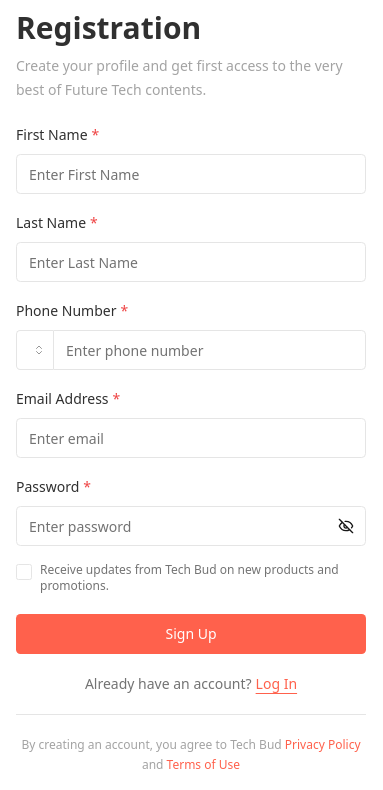
Test case: RegisterForm › displays validation errors for empty required fields
Click the button "Sign Up". click: (191, 634)
box: [16, 614, 366, 654]
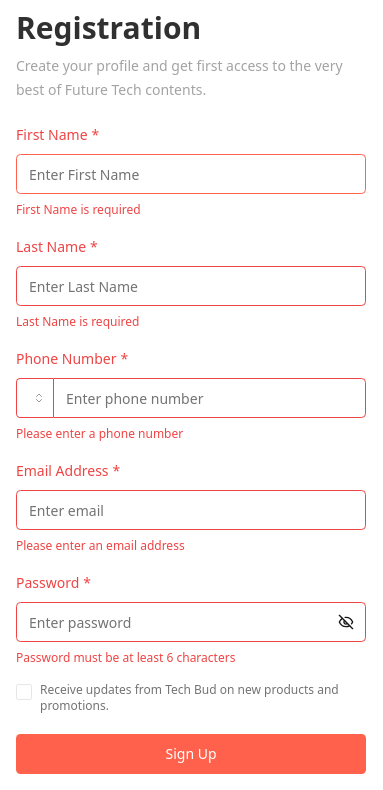
Now the text "First Name is required" is shown, box [16, 201, 141, 218]
Now the text "Last Name is required" is shown, box [16, 313, 139, 330]
Now the text "Please enter a phone number" is shown, box [16, 425, 183, 442]
